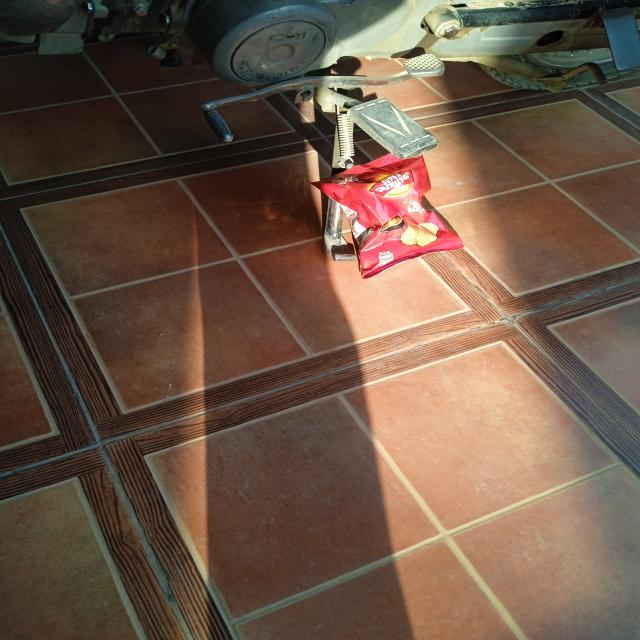Plastic: (314, 150, 469, 278)
